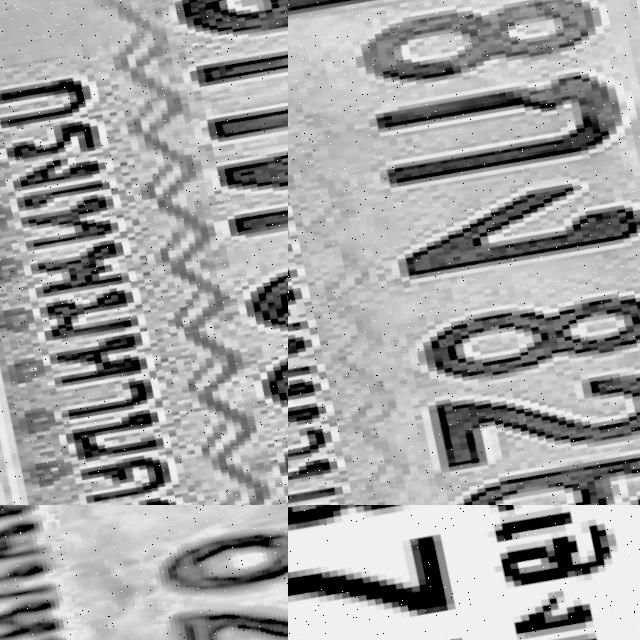license-plate: (288, 0, 640, 505), (0, 0, 288, 505), (288, 505, 640, 640), (0, 505, 288, 640)
